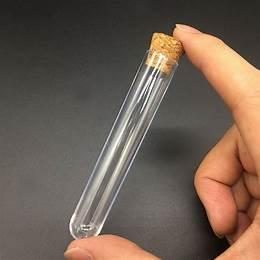Test tube: (55, 33, 202, 242)
